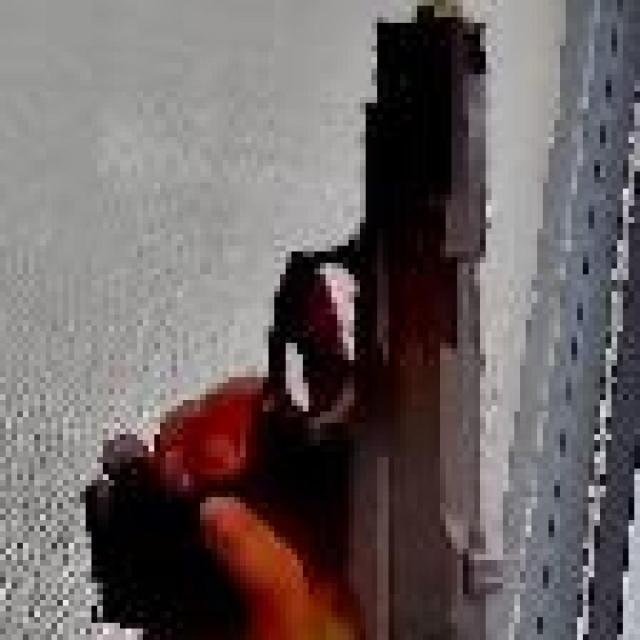pistol: (79, 0, 612, 639)
